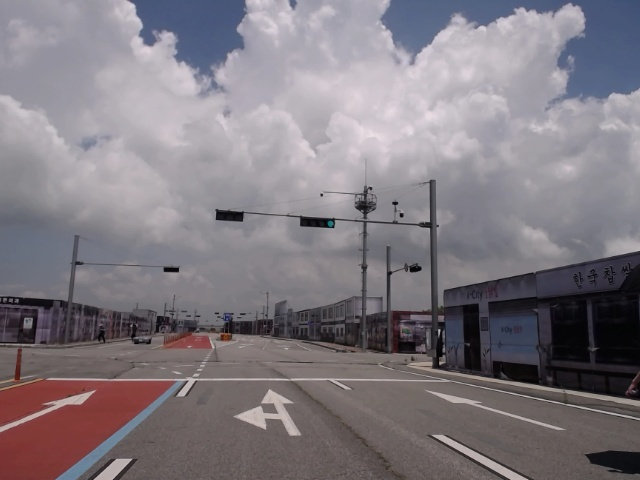straight_green_4: (301, 216, 336, 227)
